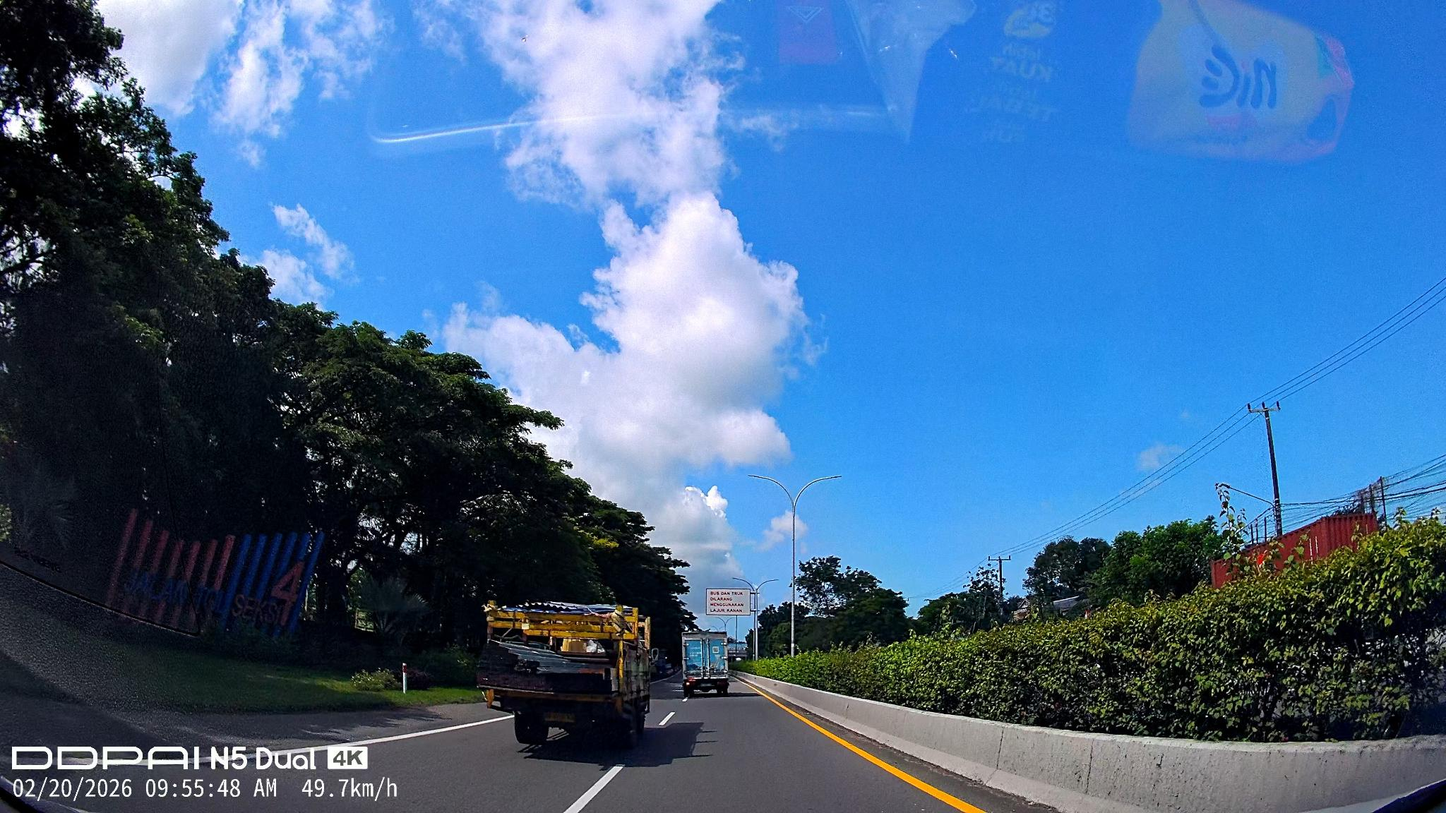rambu_teks: (705, 588, 751, 616)
